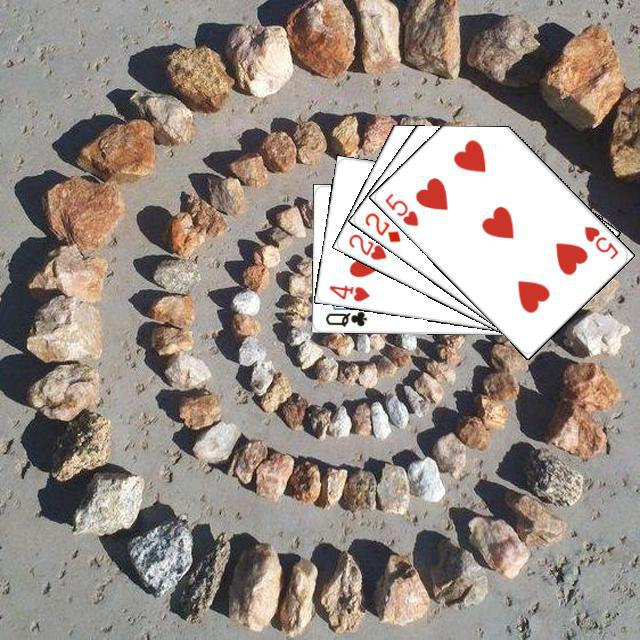2d: (360, 207, 402, 244)
2h: (344, 229, 388, 262)
4h: (324, 280, 371, 303)
5h: (579, 221, 620, 261), (380, 188, 420, 228)
Qc: (320, 301, 373, 328)
